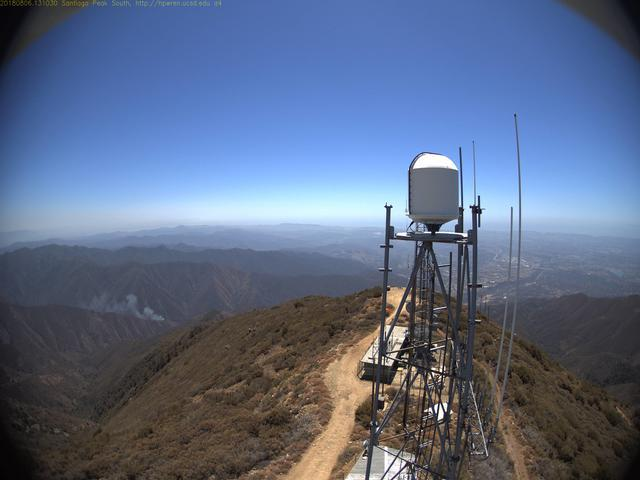smoke: (40, 279, 179, 330)
